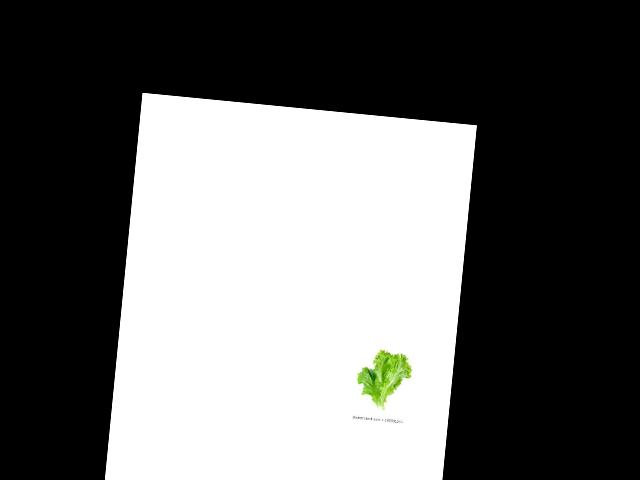lettuce: (352, 346, 413, 416)
